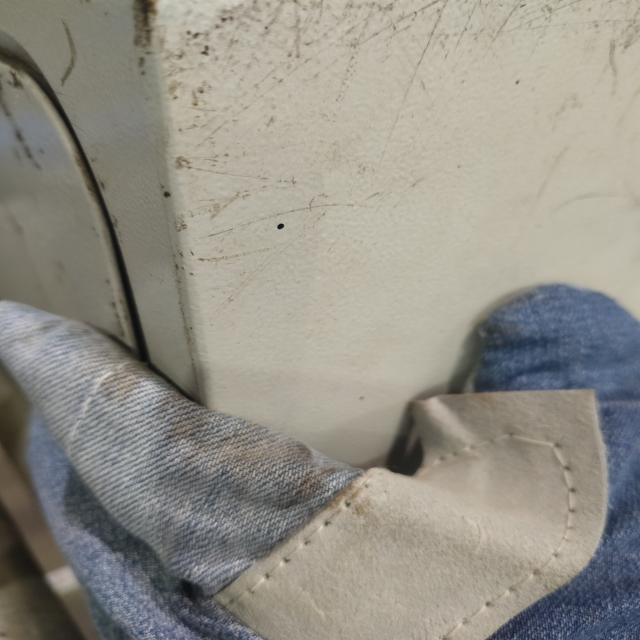Gloves-Detection: (2, 302, 640, 640)
